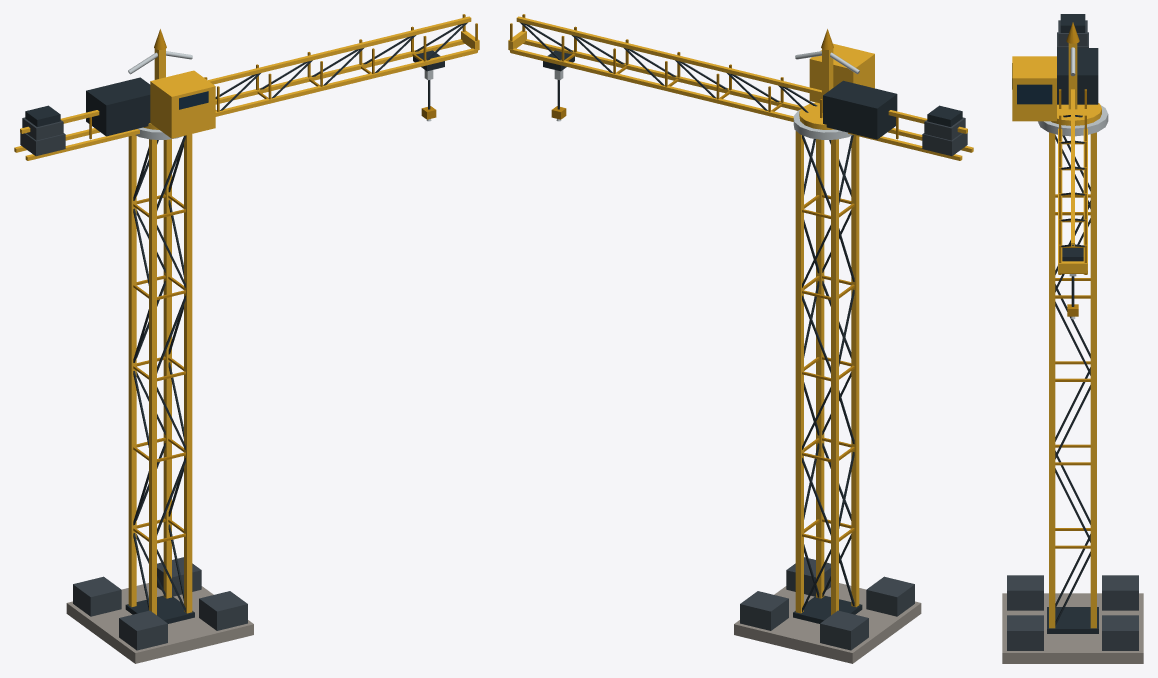
The model's file is tower-crane.glb.
The picture shows the model from 3 angles, left to right: view 1: azimuth 30°, elevation 25°; view 2: azimuth 150°, elevation 25°; view 3: azimuth 270°, elevation 25°; orthographic projection. The views are drawn at different scales.
Visible parts, largest first — view 1: mast, base, crown, jib, counterjib; view 2: mast, base, jib, crown, counterjib; view 3: base, mast, crown, jib, counterjib, trolley.
Part boxes in pixels (box(x1,y1,x2,y2)): mast: box(128, 134, 192, 615); base: box(66, 557, 253, 663); crown: box(86, 29, 215, 139); jib: box(204, 14, 479, 116); counterjib: box(14, 105, 139, 160); mast: box(795, 131, 859, 615); base: box(734, 557, 921, 663); jib: box(508, 14, 822, 121); crown: box(793, 29, 897, 139); counterjib: box(848, 105, 973, 160); base: box(1002, 575, 1143, 663); mast: box(1049, 132, 1096, 628); crown: box(1012, 22, 1108, 136); jib: box(1058, 89, 1087, 274); counterjib: box(1057, 14, 1088, 47); trolley: box(1062, 248, 1083, 319).
Size of the model in its own units: 17.49 by 22.05 by 4.6.
